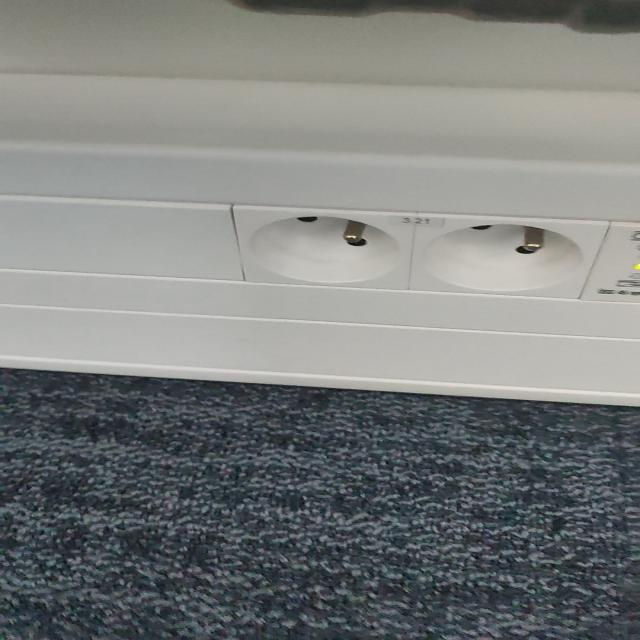house plug: (407, 212, 604, 302), (228, 206, 416, 291)
